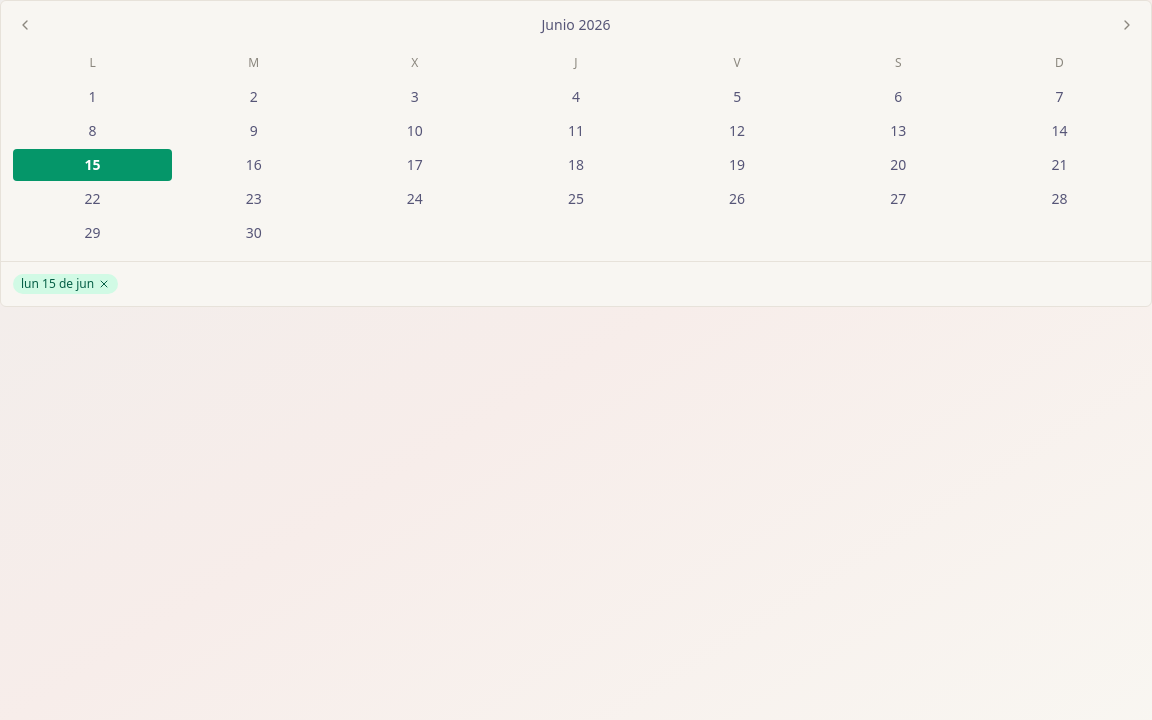
Test case: MultiDateCalendar › navigates to the previous month
This screenshot has width=1152, height=720.
What coordinates should you click on to do the following:
click the button named "Mes anterior"
I would click on:
 (25, 25)
Its box is [13,13,37,37].
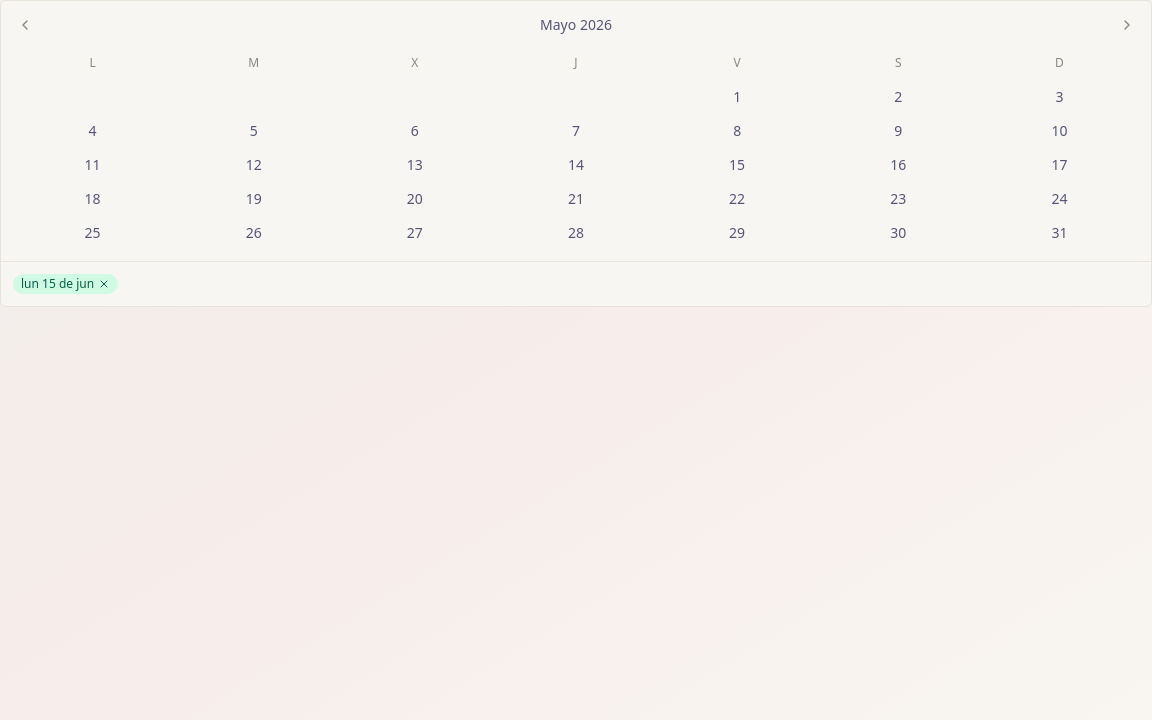
Result: the text "Mayo 2026" is shown at [540,15,612,34]
